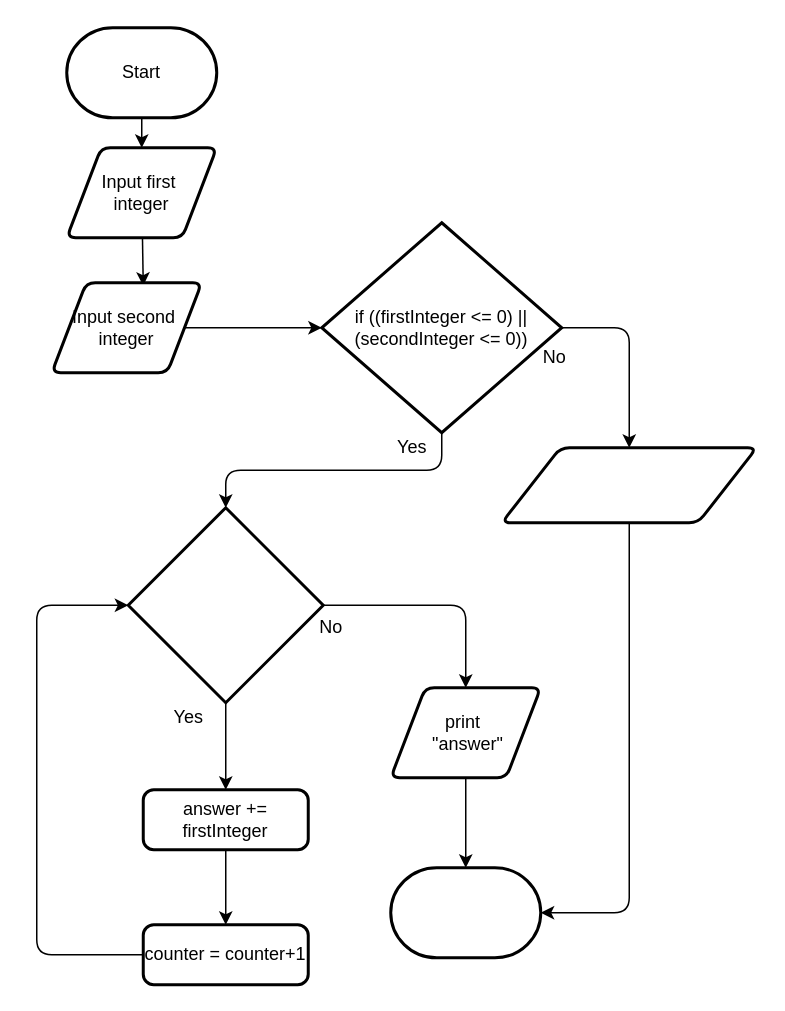
This 785x1011 diagram has some shape labels left out. Here are the shapes that lost their labels. From the top down, the centre of each, then its label:
pixel 629 485: print "Please input a positive number."
pixel 225 605: While (counter < second integer)
pixel 465 912: Stop
